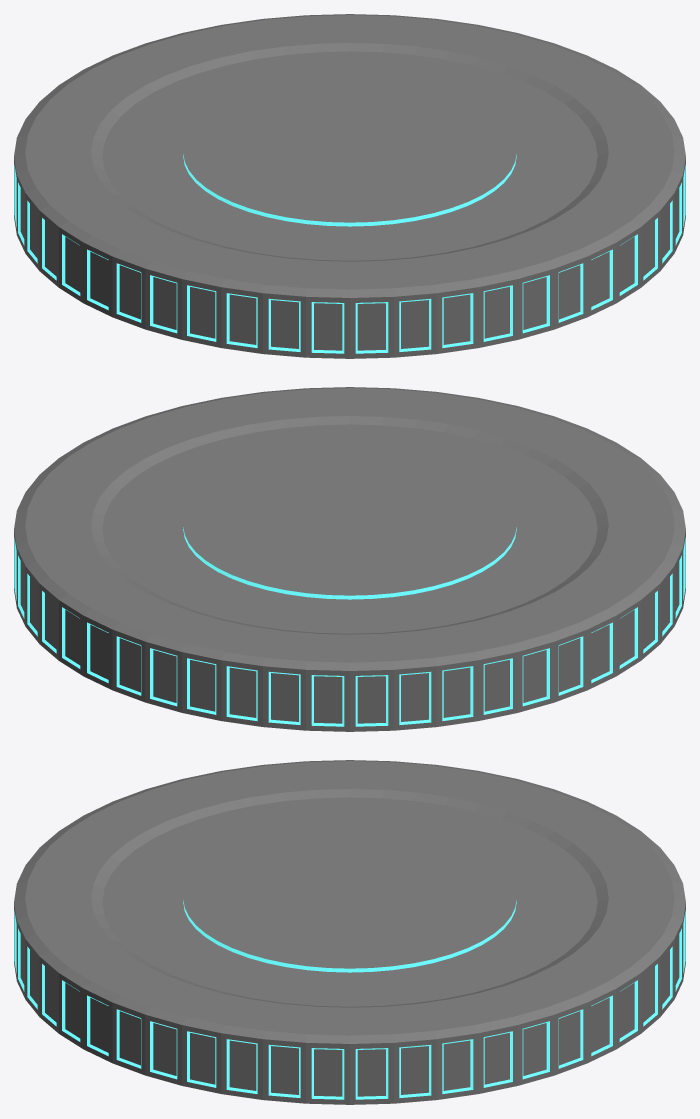
Rendered from MidPlatform.fbx.
3 views of the same model, one above another, from view 1: azimuth 30°, elevation 25°; view 2: azimuth 150°, elevation 25°; view 3: azimuth 270°, elevation 25° (orthographic).
Visible parts, largest first — view 1: MiddlePlatform001; view 2: MiddlePlatform001; view 3: MiddlePlatform001.
Boxes of the visible parts, <box> form: MiddlePlatform001: <box>14,14,685,358</box>; MiddlePlatform001: <box>14,387,685,731</box>; MiddlePlatform001: <box>14,760,685,1104</box>.
Size of the model in its own units: 6 by 0.6382 by 6.
